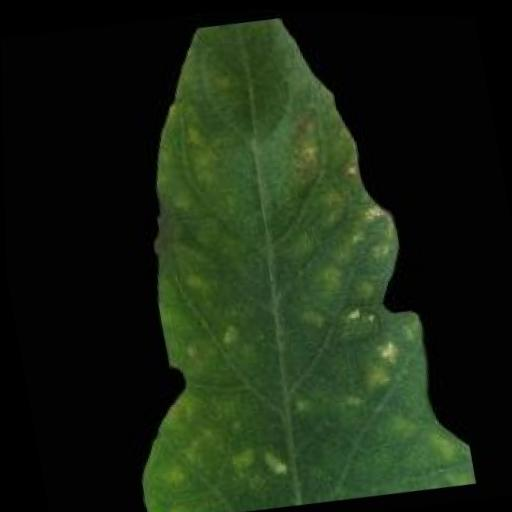Late Blight: (60, 2, 474, 512)
